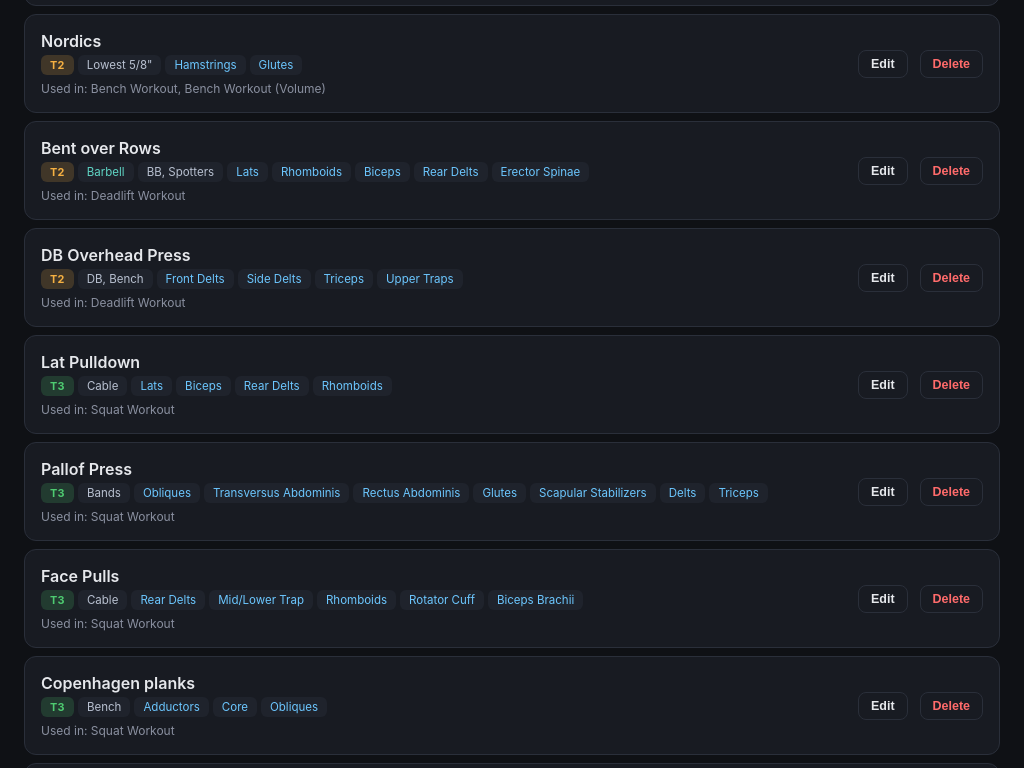
Scenario: ExercisesPage — equipment dropdown › persists an equipment change made in the edit form
(page scrolled)
Check: the link "Lat Pulldown" is shown, box 41,352 -> 140,372
Click the 4th button "Edit" at x=883, y=385, box 858,371 -> 908,399
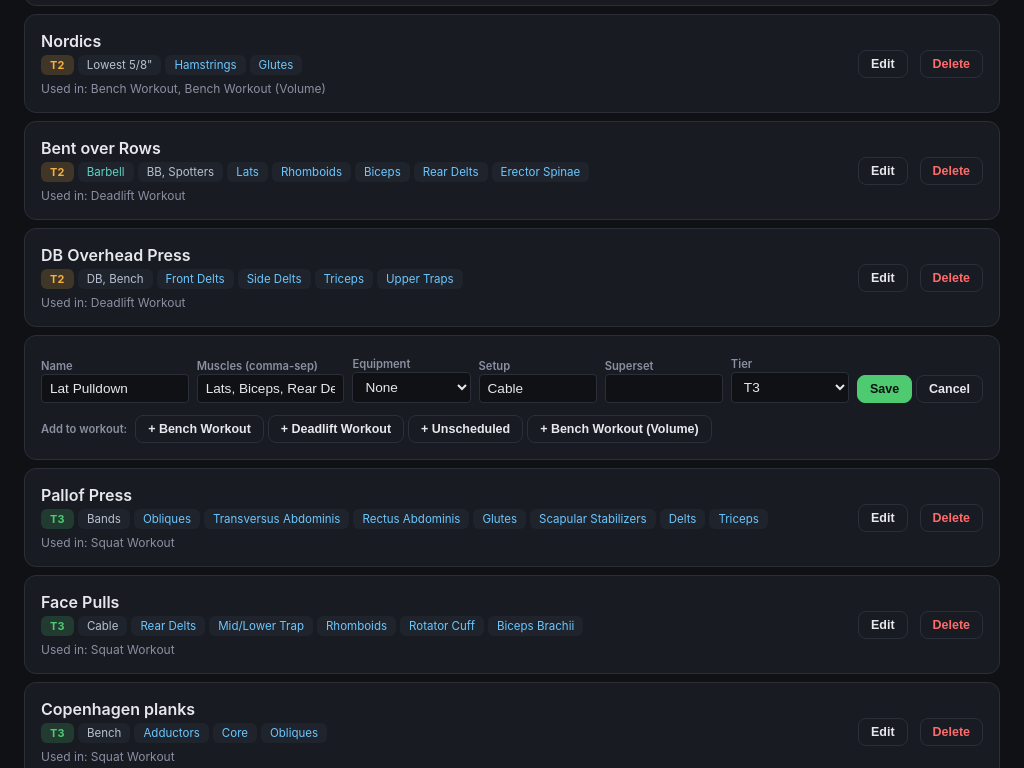
Select "Barbell" in the dropdown named "Equipment" at x=411, y=388, box 352,372 -> 470,404
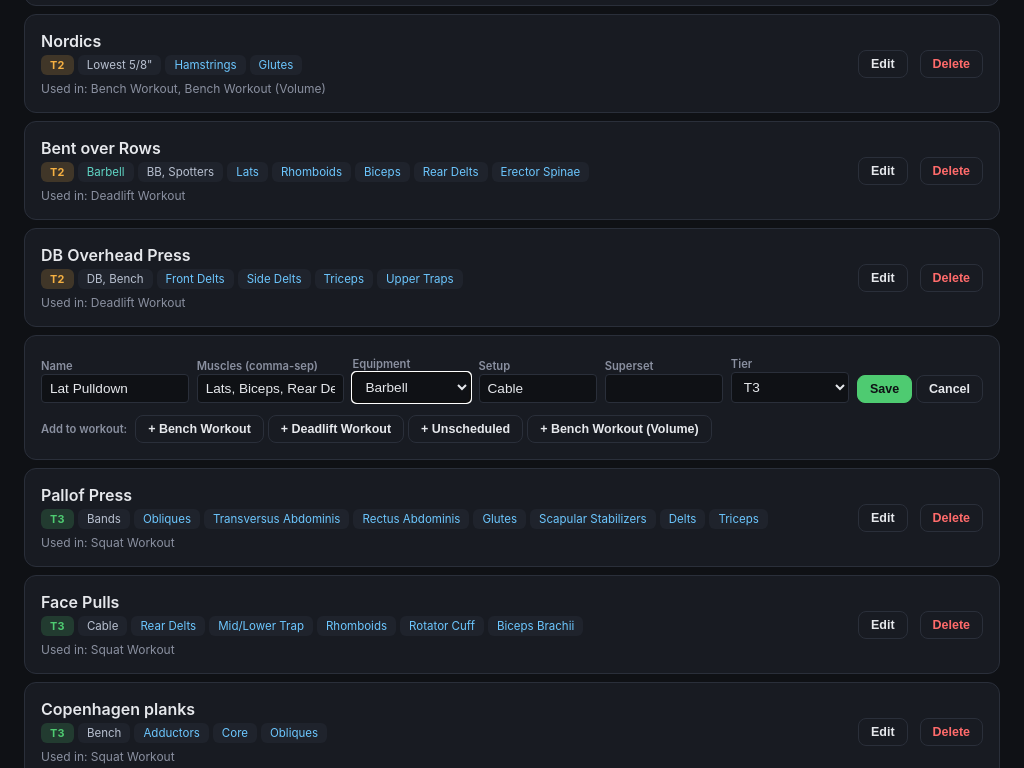
Click the button "Save" at x=885, y=390, box 857,376 -> 912,404
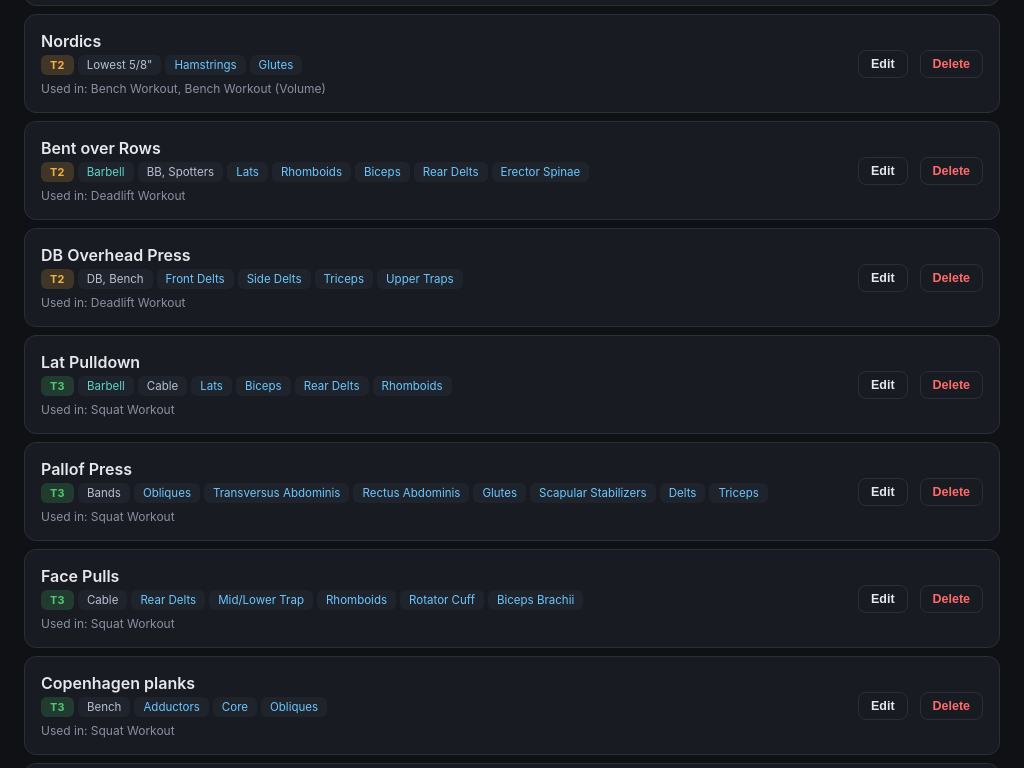
Check: the link "Lat Pulldown" is shown, box 41,352 -> 140,372
